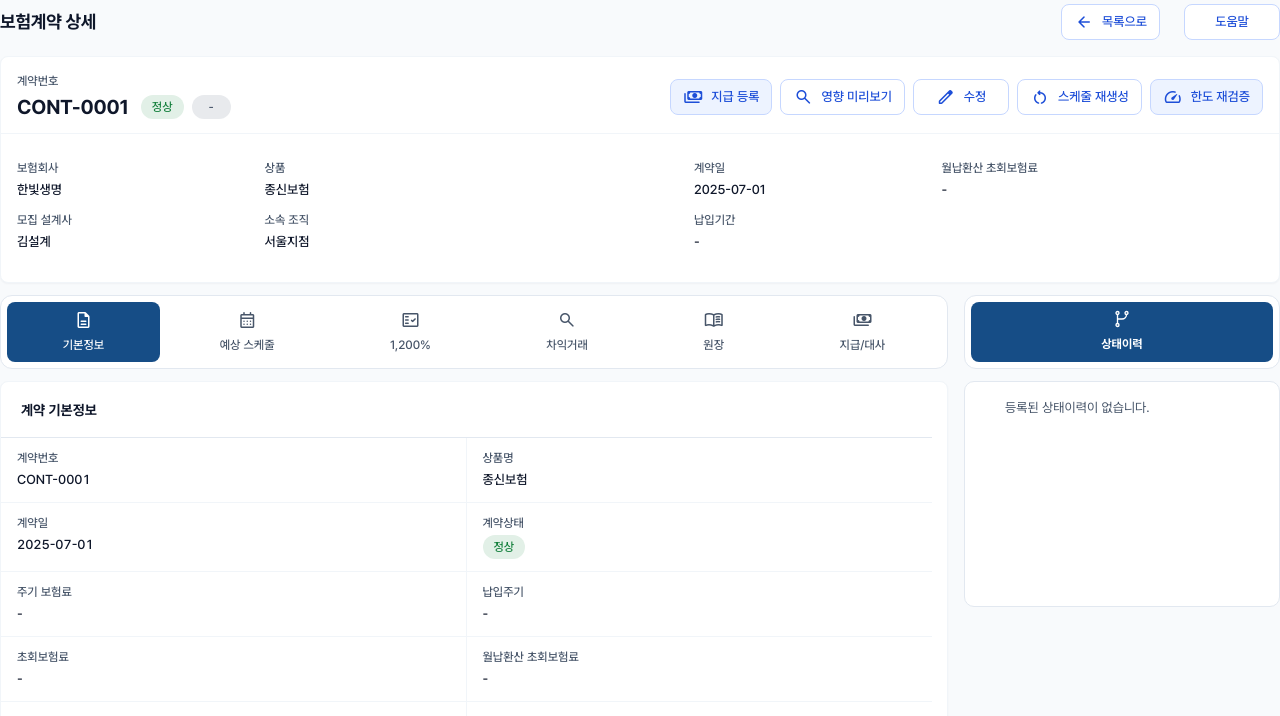
Scenario: CONT-W02 상태 변경 영향 미리보기 › 허용 전이만 선택지로 보이고 끝 상태 계약은 미리보기를 잠그고 이유를 알린다
The image size is (1280, 716).
Click the button "영향 미리보기" at point(843, 97), box [780,79,905,115]
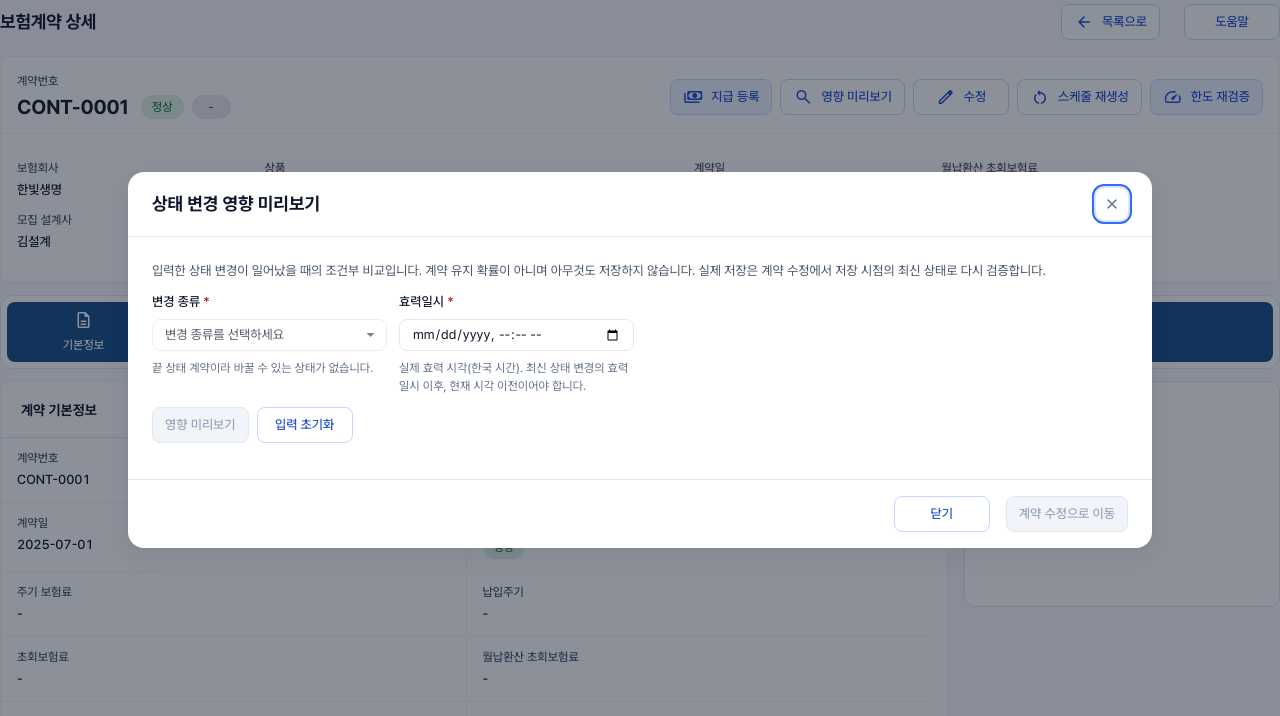
Expected: the text "끝 상태 계약이라 바꿀 수 있는 상태가 없습니다." is shown, [152,359,387,377]
Expected: the button "영향 미리보기" is disabled, [152,407,249,443]
